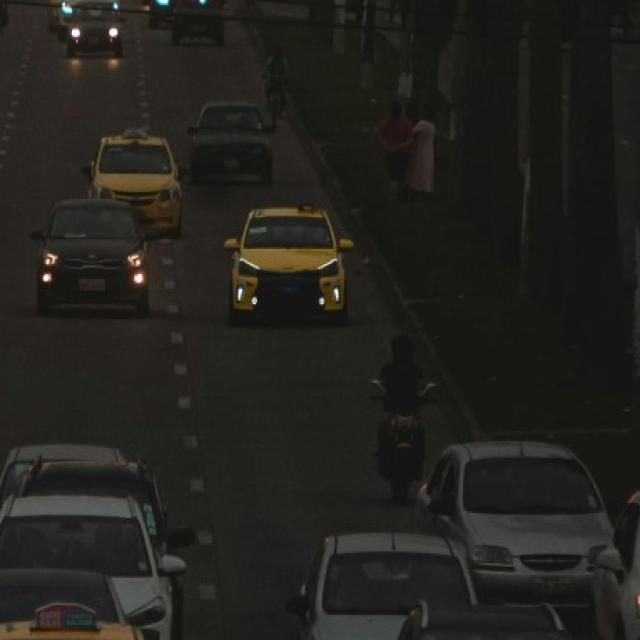car: (415, 434, 612, 612), (0, 496, 187, 640), (285, 528, 477, 640), (225, 202, 352, 318), (31, 198, 152, 314), (82, 131, 188, 239), (188, 101, 274, 186), (0, 610, 189, 640), (64, 3, 122, 56)
motorbike: (371, 336, 438, 498)
